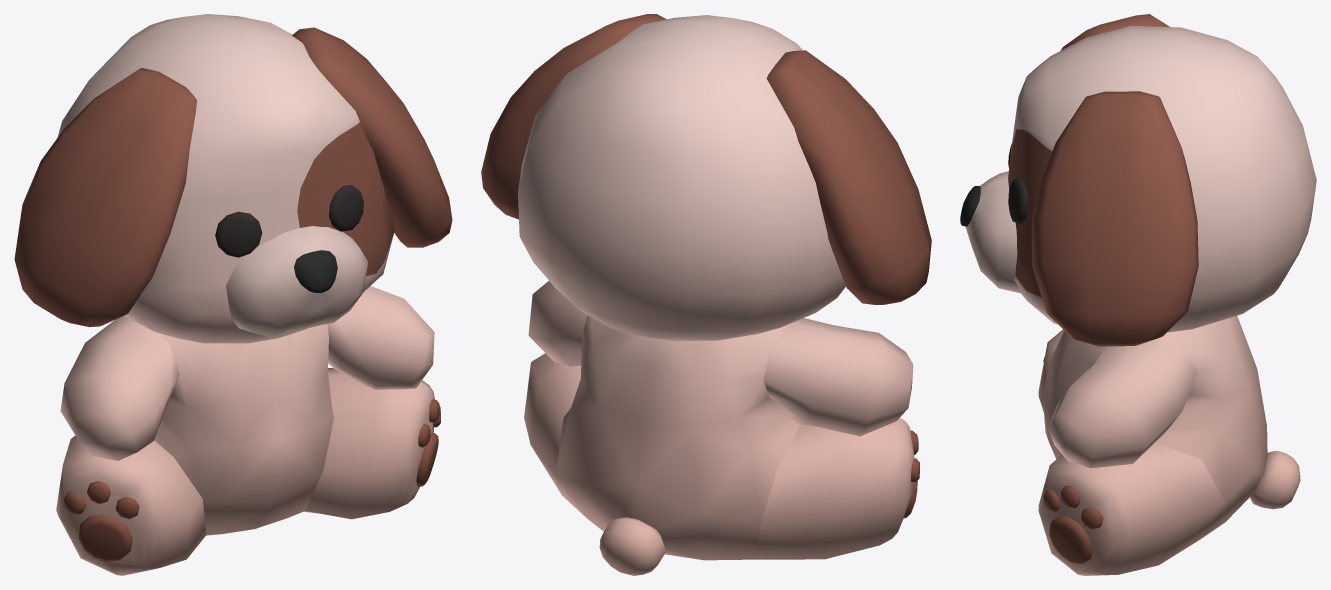
File: Dog_01.fbx
3 views of the same model, side by side, from view 1: azimuth 30°, elevation 25°; view 2: azimuth 150°, elevation 25°; view 3: azimuth 270°, elevation 25° (orthographic). The views are drawn at different scales.
Visible parts, largest first — view 1: Dog_01; view 2: Dog_01; view 3: Dog_01.
Boxes of the visible parts, x1=… form: Dog_01: x1=14, y1=14, x2=452, y2=575; Dog_01: x1=481, y1=14, x2=931, y2=575; Dog_01: x1=960, y1=14, x2=1316, y2=575.
Size of the model in its own units: 37.14 by 28.96 by 43.01.
